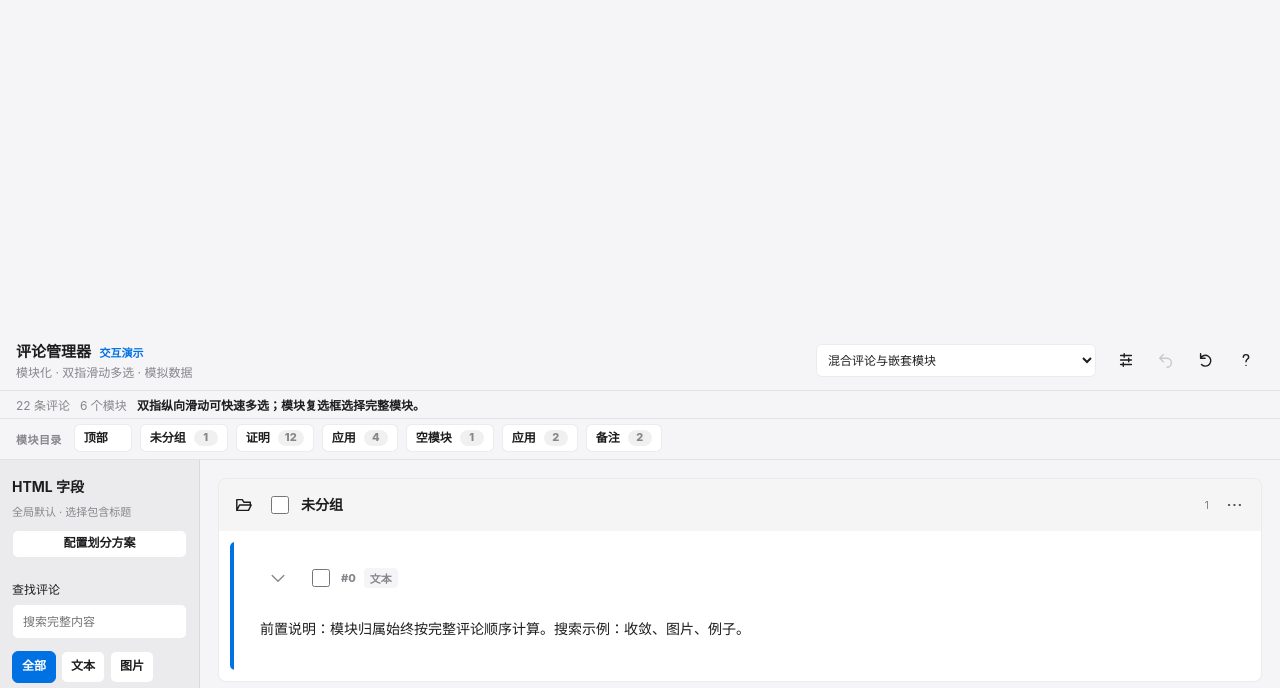
switches between card overrides and global defaults, preserving saved preferences on remount
The width and height of the screenshot is (1280, 688).
(page scrolled)
Click the button named "模块划分设置" at point(1126, 360), box [1108,341,1144,379]
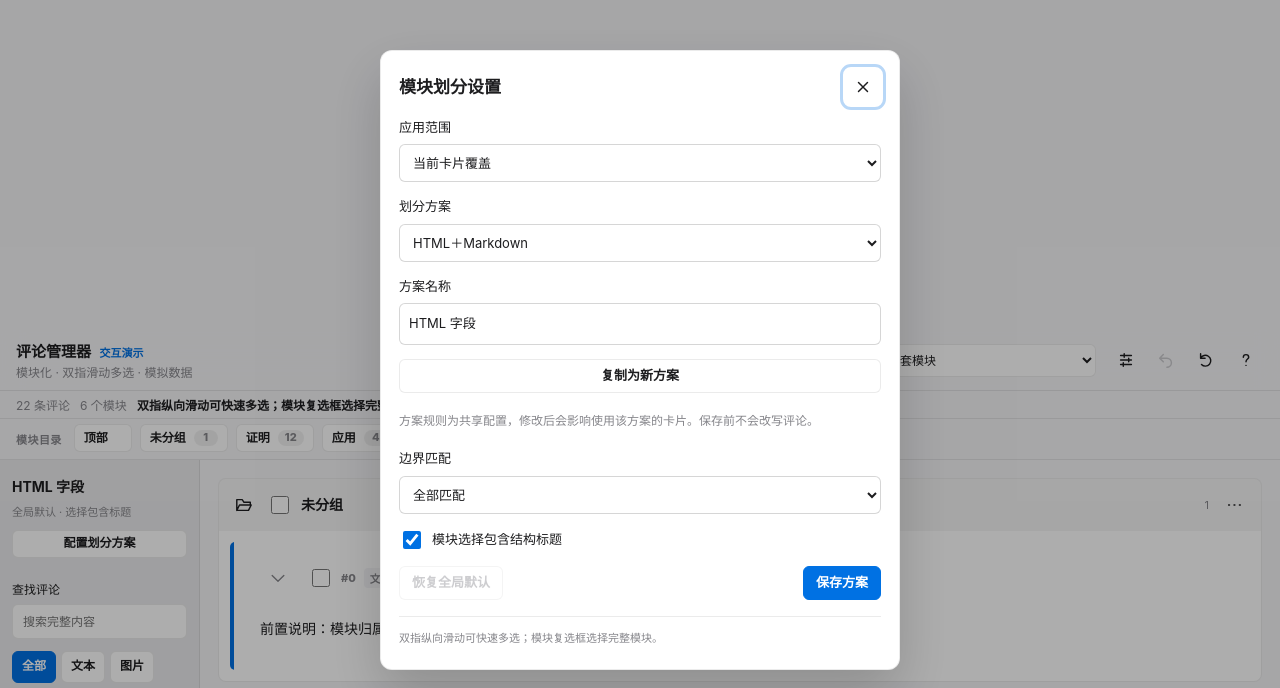
Expected: the dropdown labelled "划分方案" is shown
Select "HTML＋Markdown" in the dropdown labelled "划分方案" at point(640, 243), box [399,224,881,262]
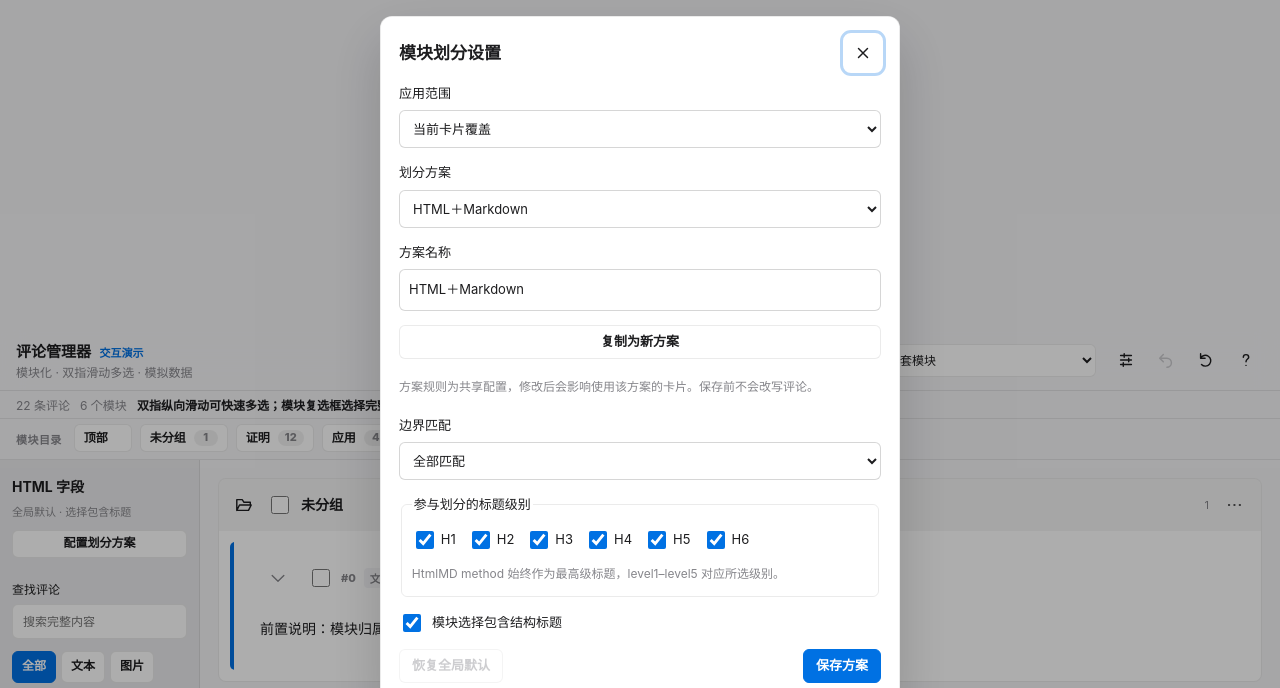
Expected: the button "保存方案" is shown
Click the button "保存方案" at point(842, 666), box [803,649,881,683]
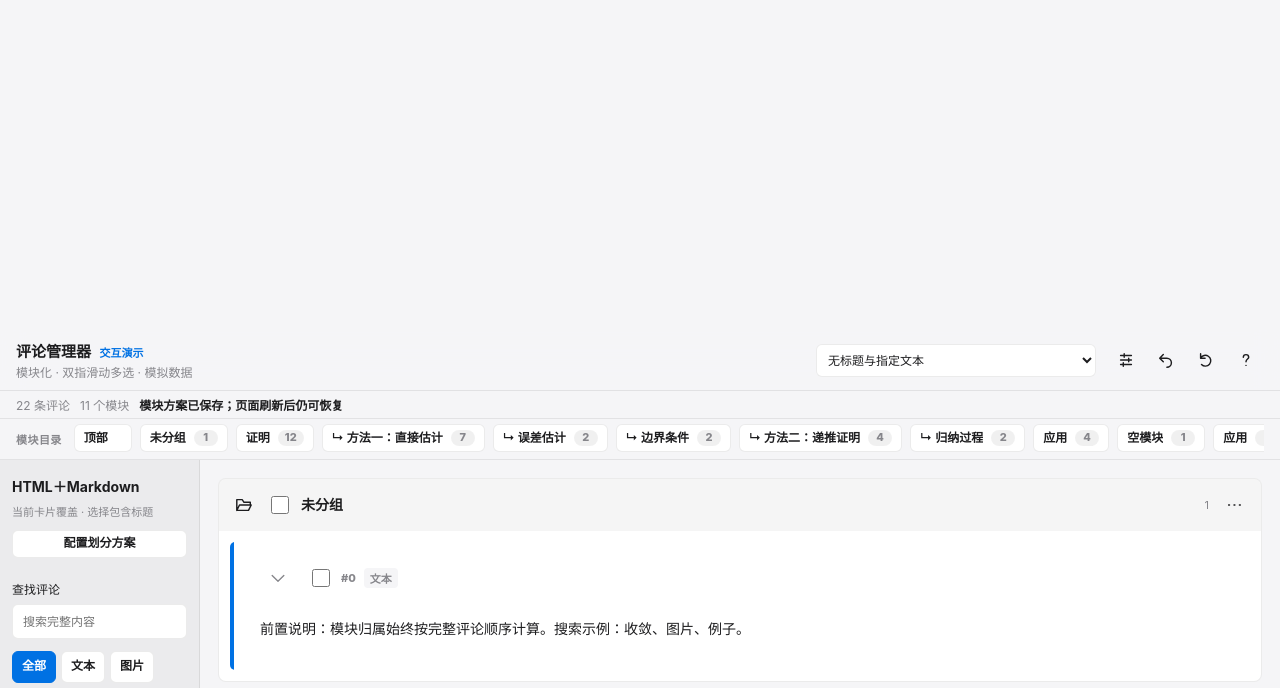
Select "无标题与指定文本" in the dropdown named "样例卡片" at point(956, 360), box [816,344,1096,376]
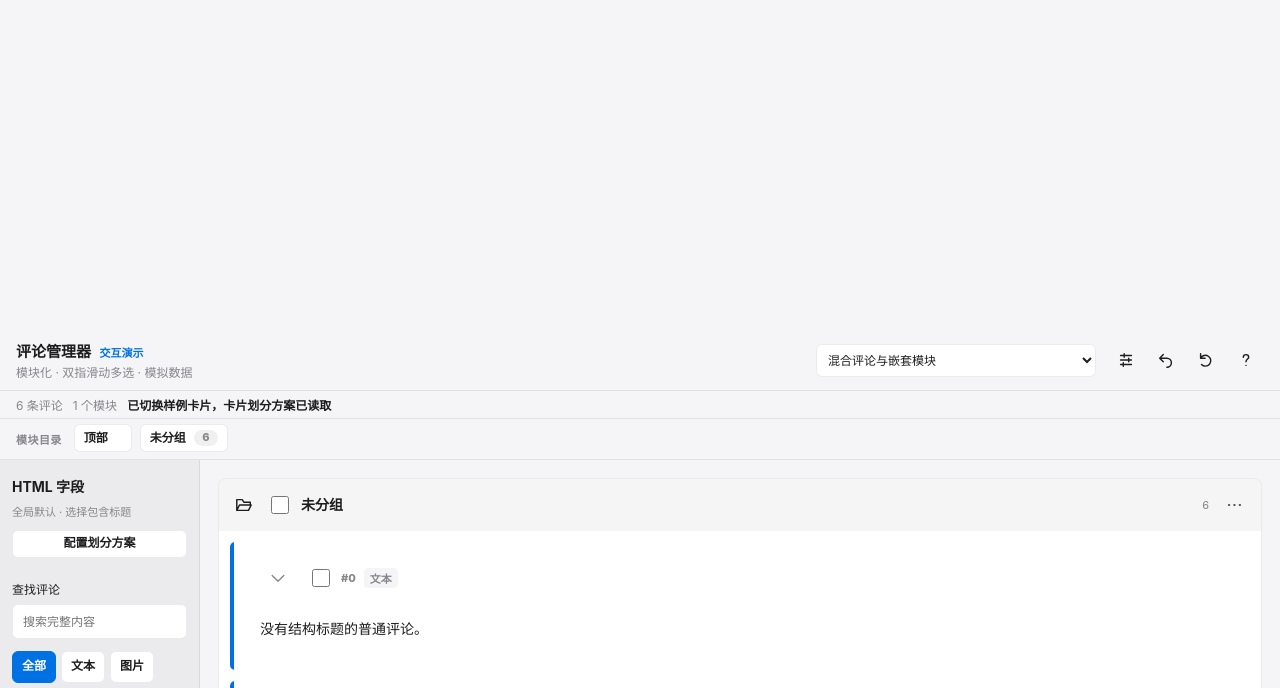
Expected: the element with class "demo-profile-summary" shows "HTML 字段", [12,478,84,495]
Select "混合评论与嵌套模块" in the dropdown named "样例卡片" at point(956, 360), box [816,344,1096,376]
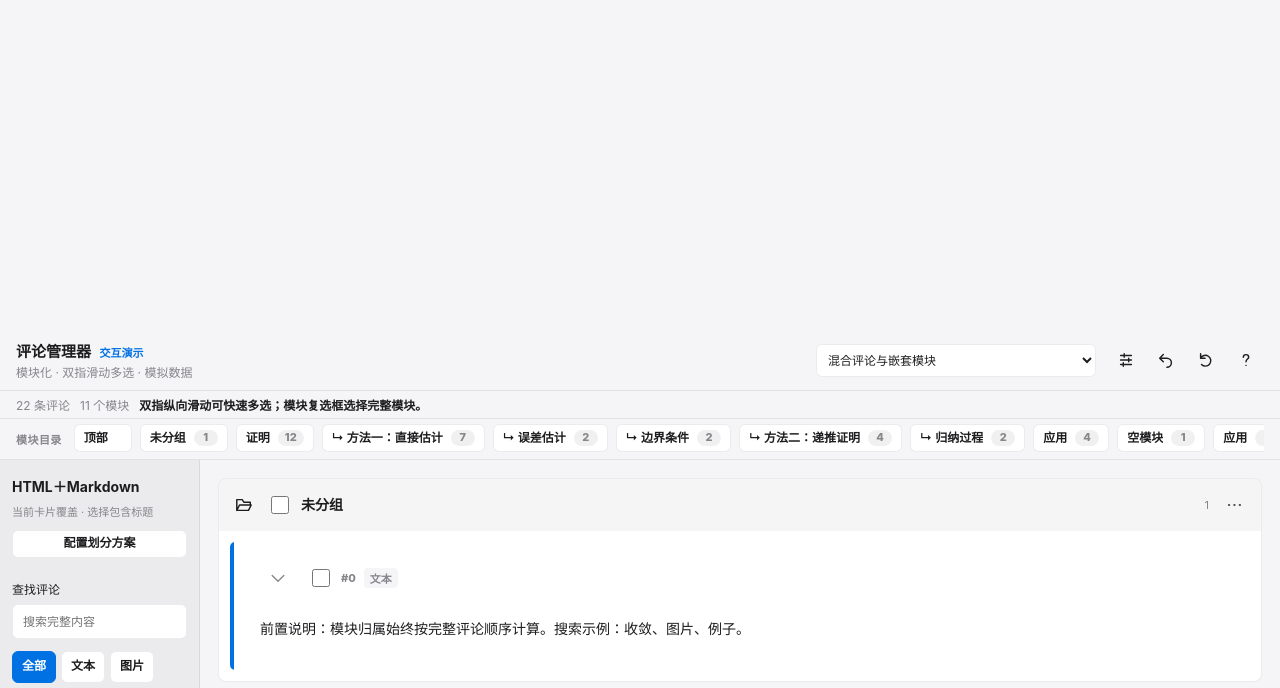
Expected: the element with class "demo-profile-summary" shows "HTML＋Markdown", [12,478,140,495]
